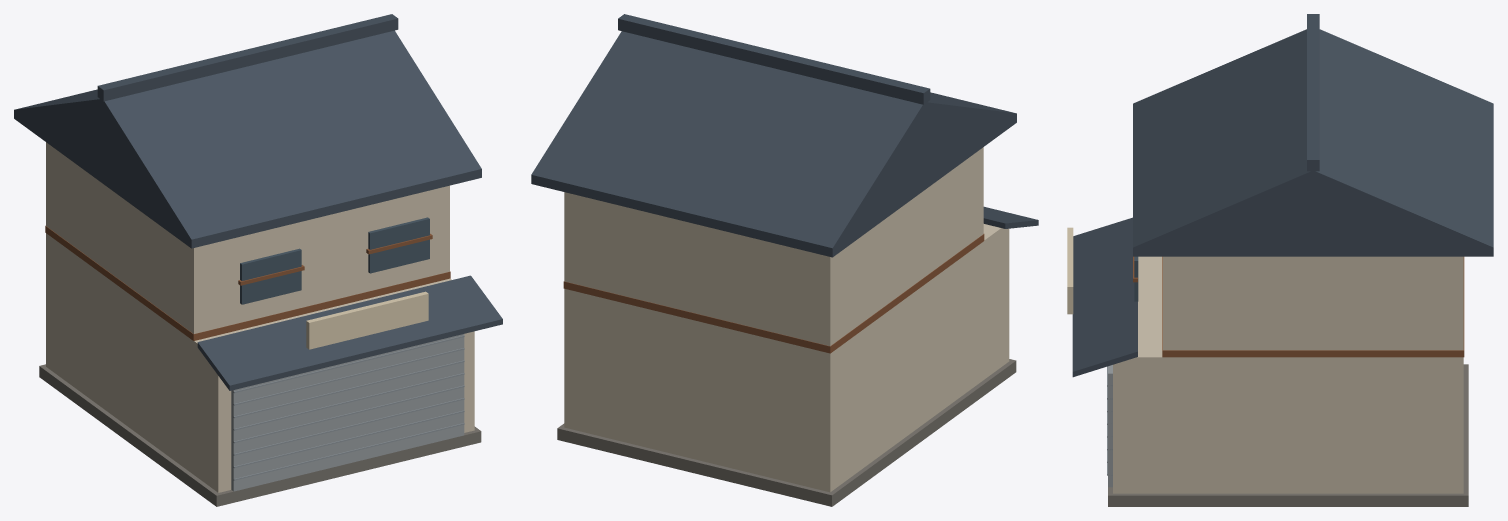
Rendered from shop_empty_a.fbx.
3 renders of one model, left to right at view 1: azimuth 30°, elevation 25°; view 2: azimuth 150°, elevation 25°; view 3: azimuth 270°, elevation 25°, orthographic. The views are drawn at different scales.
Visible parts, largest first — view 1: shop_empty_a; view 2: shop_empty_a; view 3: shop_empty_a.
Part boxes in pixels (x1,y1,x2,y2): shop_empty_a: [14, 14, 502, 506]; shop_empty_a: [531, 14, 1038, 506]; shop_empty_a: [1067, 14, 1493, 506].
Size of the model in its own units: 6.9 by 7.8 by 8.51.
1 material, 1 textured.
